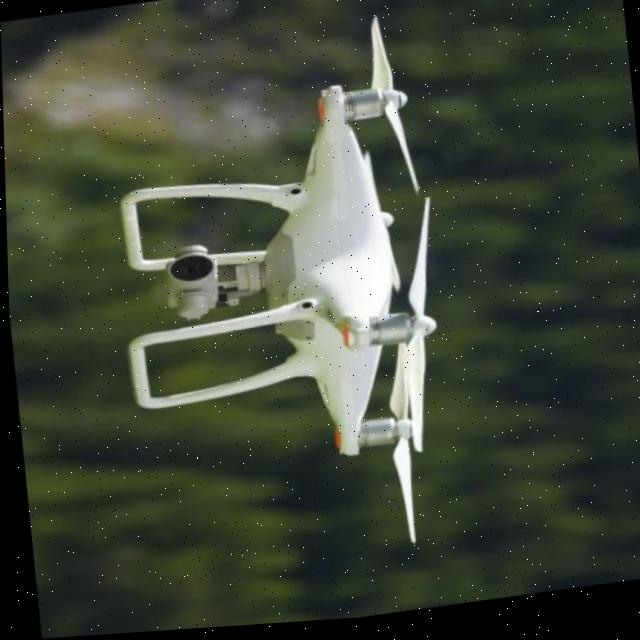drones: (77, 0, 558, 614)
